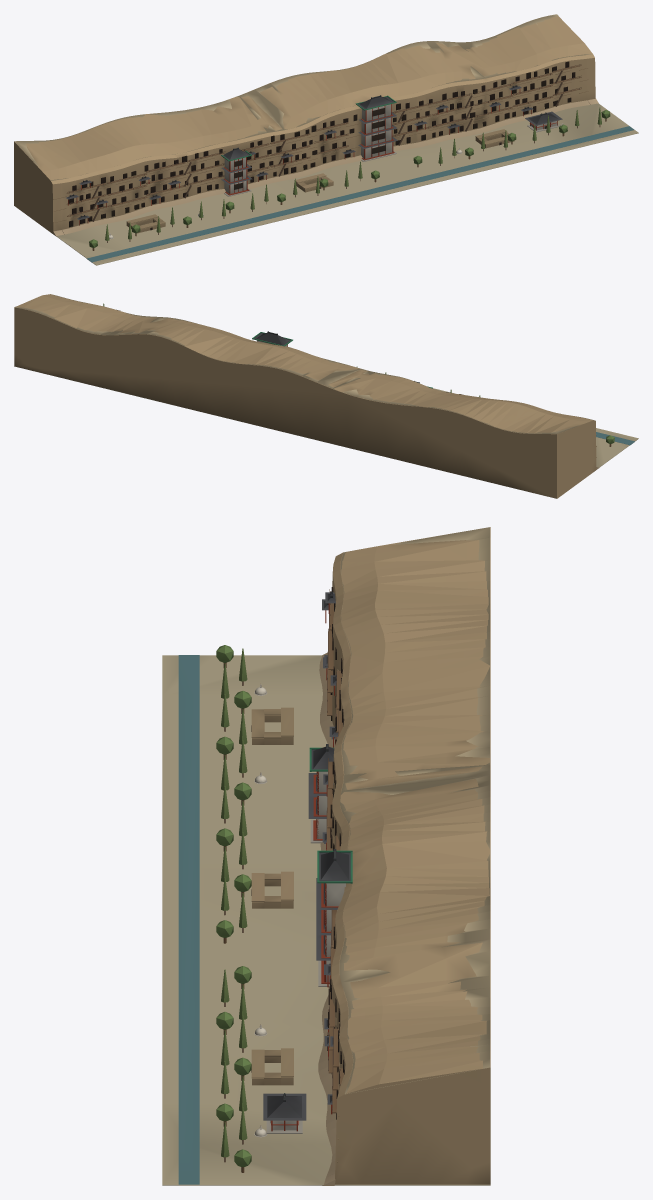
File: mogao.glb
The picture shows the model from 3 angles, top to bottom: view 1: azimuth 30°, elevation 25°; view 2: azimuth 150°, elevation 25°; view 3: azimuth 270°, elevation 25°; orthographic projection. The views are drawn at different scales.
Parts seen in each view (by area): view 1: p0_valley, p1_halls, p2_roofs; view 2: p0_valley, p2_roofs; view 3: p0_valley, p2_roofs, p1_halls.
Boxes of the visible parts, x1=… form: p0_valley: x1=14, y1=14, x2=638, y2=265; p1_halls: x1=67, y1=61, x2=581, y2=239; p2_roofs: x1=66, y1=85, x2=610, y2=250; p0_valley: x1=14, y1=294, x2=638, y2=498; p2_roofs: x1=103, y1=303, x2=614, y2=446; p0_valley: x1=162, y1=527, x2=490, y2=1185; p2_roofs: x1=216, y1=591, x2=352, y2=1172; p1_halls: x1=251, y1=587, x2=345, y2=1137.
Size of the model in its own units: 420 by 48.49 by 110.
